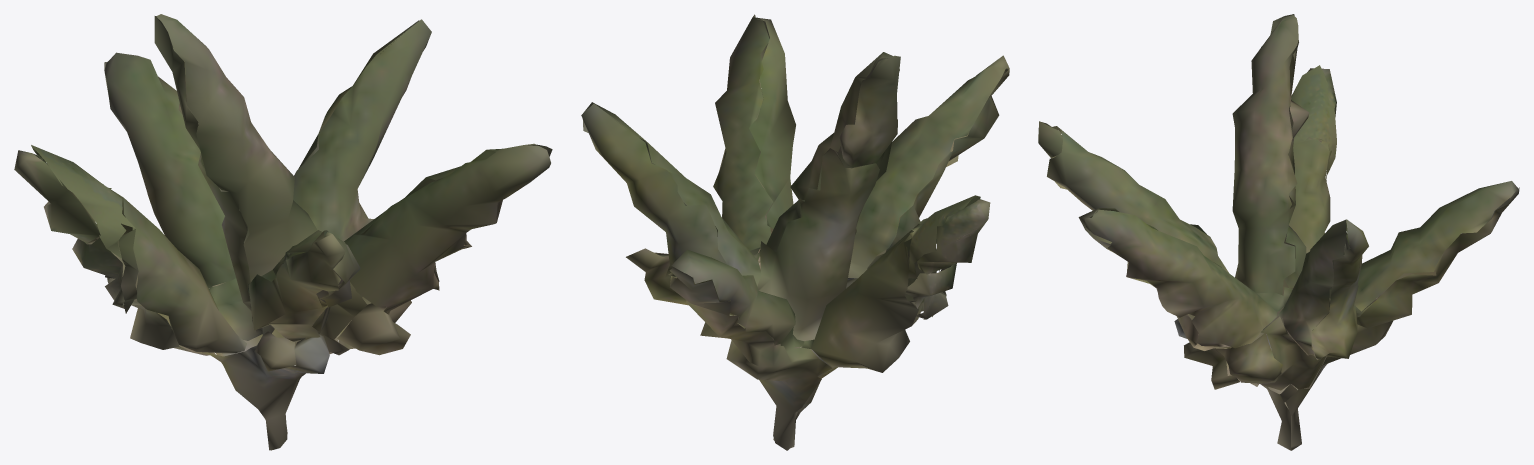
The model's file is ground_cover_01_lod2.glb.
3 views of the same model, side by side, from view 1: azimuth 30°, elevation 25°; view 2: azimuth 150°, elevation 25°; view 3: azimuth 270°, elevation 25° (orthographic). The views are drawn at different scales.
Visible parts, largest first — view 1: candidate_012_lod2; view 2: candidate_012_lod2; view 3: candidate_012_lod2.
Part boxes in pixels (left/top/right/bottom): candidate_012_lod2: left=14, top=14, right=552, bottom=450; candidate_012_lod2: left=581, top=14, right=1009, bottom=450; candidate_012_lod2: left=1038, top=14, right=1519, bottom=450.
Bounding box in the file's own units: 0.0969 × 0.099 × 0.1108.
1 material, 1 textured.
